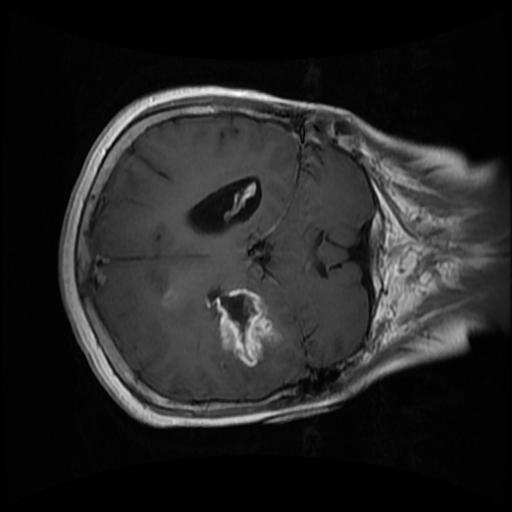glioma: (205, 288, 280, 367)
